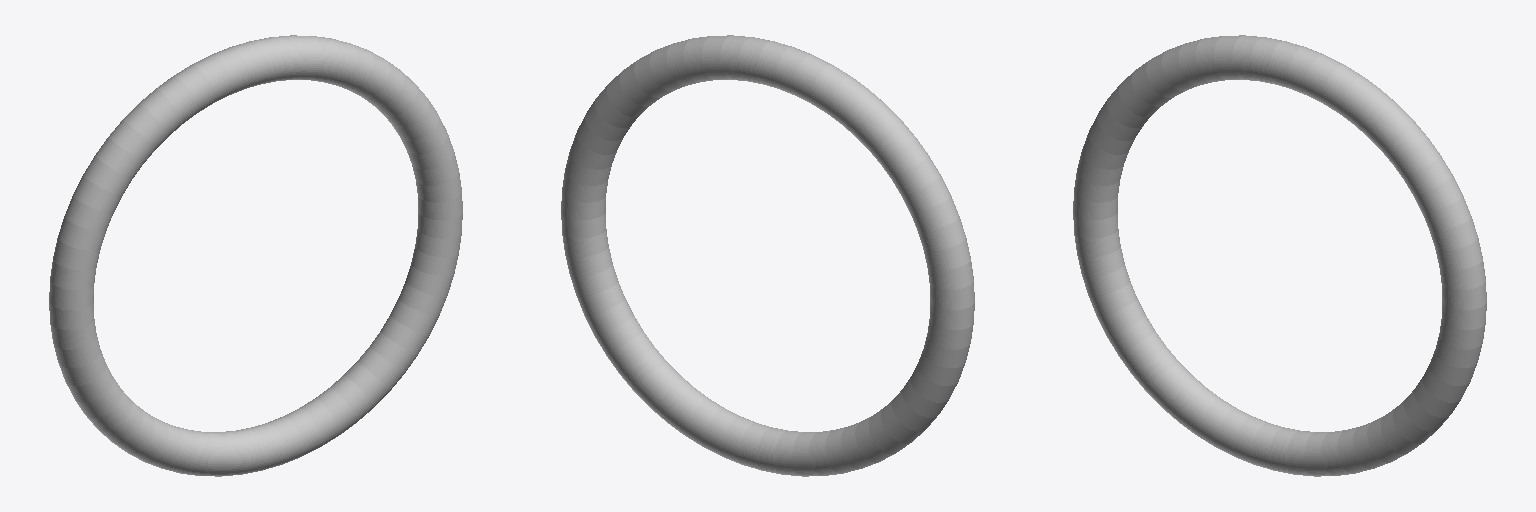
Rendered from Reticle2.obj.
The picture shows the model from 3 angles: view 1: azimuth 30°, elevation 25°; view 2: azimuth 150°, elevation 25°; view 3: azimuth 330°, elevation 25°; orthographic projection.
Visible parts, largest first — view 1: トーラス.003; view 2: トーラス.003; view 3: トーラス.003.
Part boxes in pixels (bbox=[...]): トーラス.003: bbox=[49, 35, 462, 476]; トーラス.003: bbox=[561, 35, 974, 476]; トーラス.003: bbox=[1073, 35, 1486, 476].
Size of the model in its own units: 2 by 2 by 0.189.